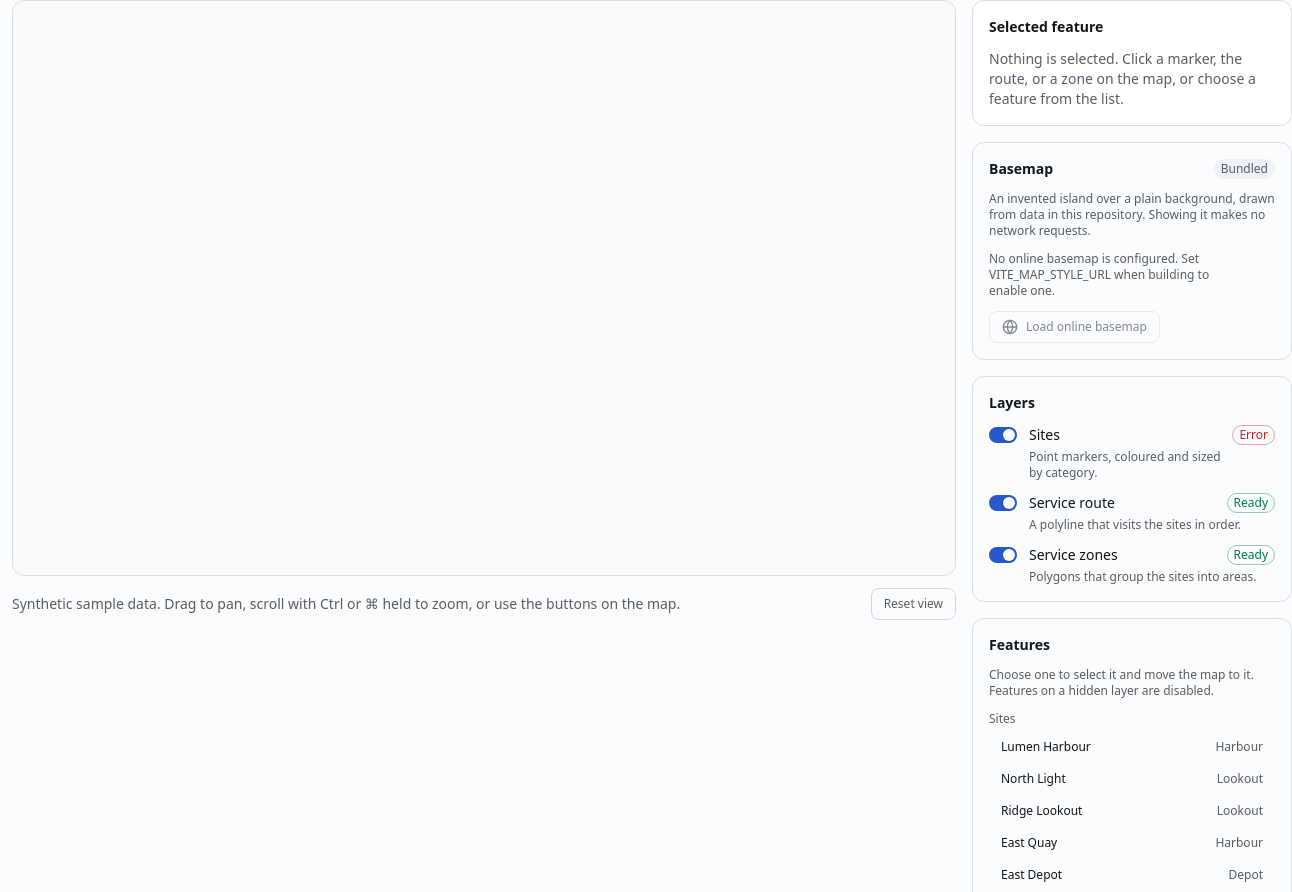
Test: layer controls › shows hidden rather than the map’s status for a layer that is off
Click the switch named "Sites" in the row of "Error" at (1003,435), box top-left (989, 427), bottom-right (1017, 443)
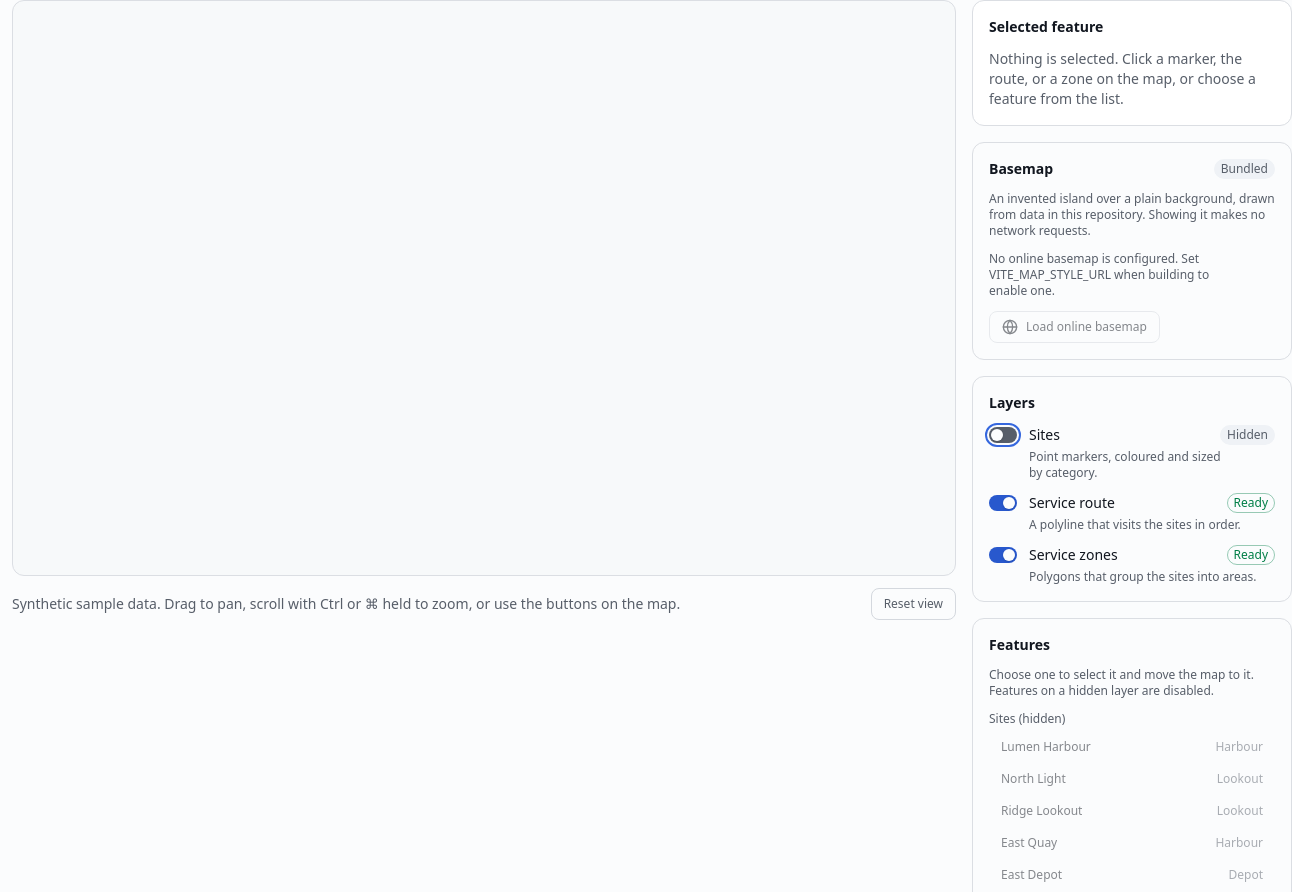
Now the text "Hidden" is shown, box top-left (1220, 425), bottom-right (1275, 445)
Now the text "Error" is gone
